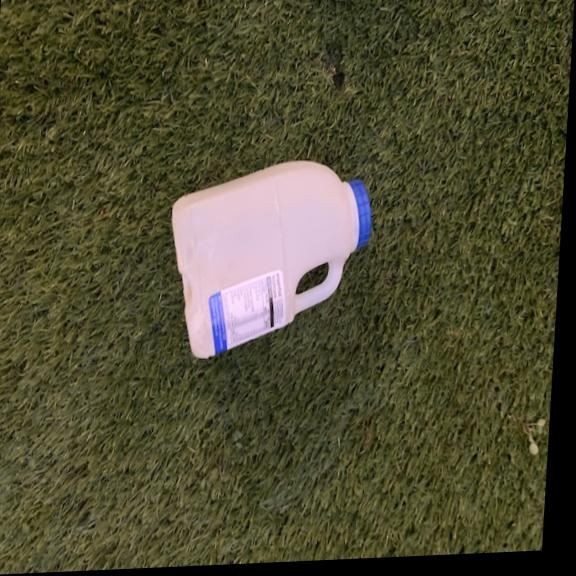Plastik: (159, 158, 373, 364)
